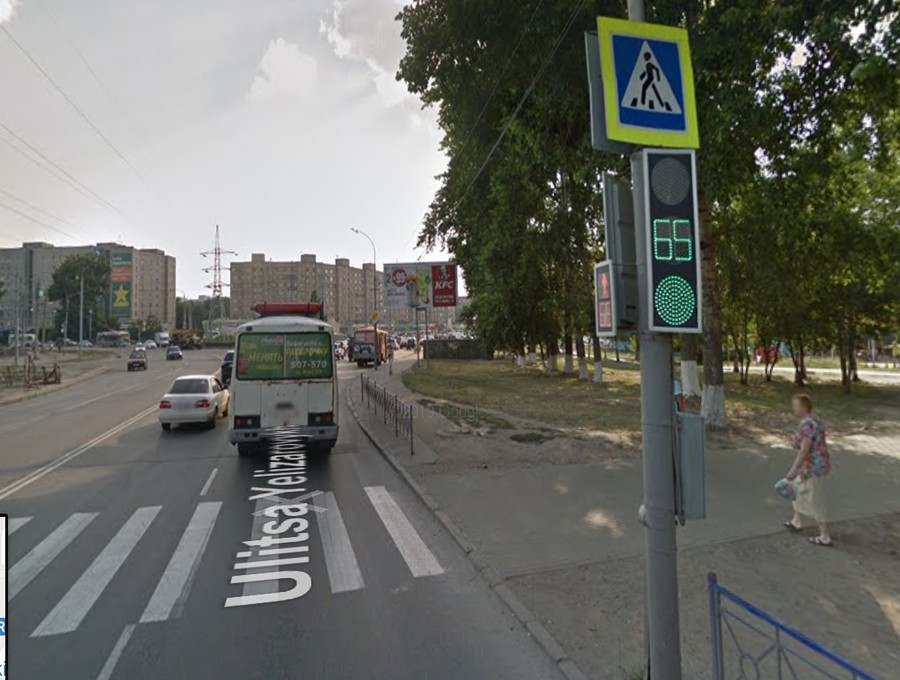Traffic Light-red: (590, 261, 619, 342)
